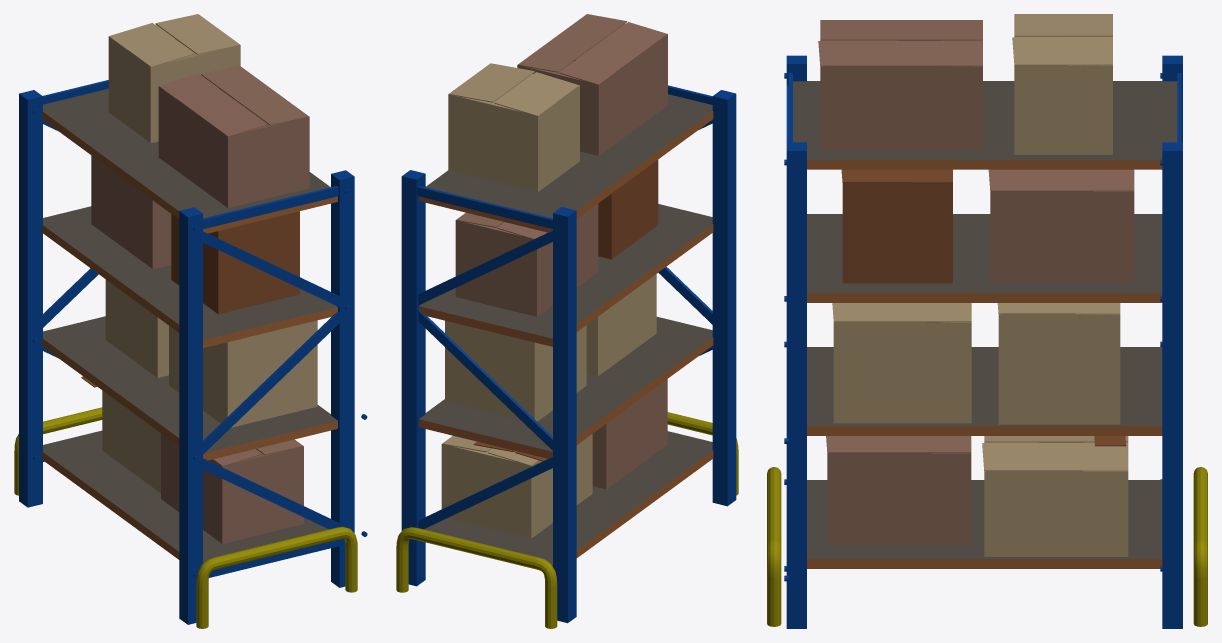
File: Petite etagere 2.fbx
3 views of the same model, side by side, from view 1: azimuth 30°, elevation 25°; view 2: azimuth 150°, elevation 25°; view 3: azimuth 270°, elevation 25° (orthographic). The views are drawn at different scales.
Visible parts, largest first — view 1: petite_etagere_2; view 2: petite_etagere_2; view 3: petite_etagere_2.
Boxes of the visible parts, box(x1,y1,x2,y2) form: petite_etagere_2: box(14, 14, 367, 628); petite_etagere_2: box(396, 14, 738, 628); petite_etagere_2: box(767, 14, 1207, 628).
Size of the model in its own units: 1.51 by 3.84 by 2.76.
